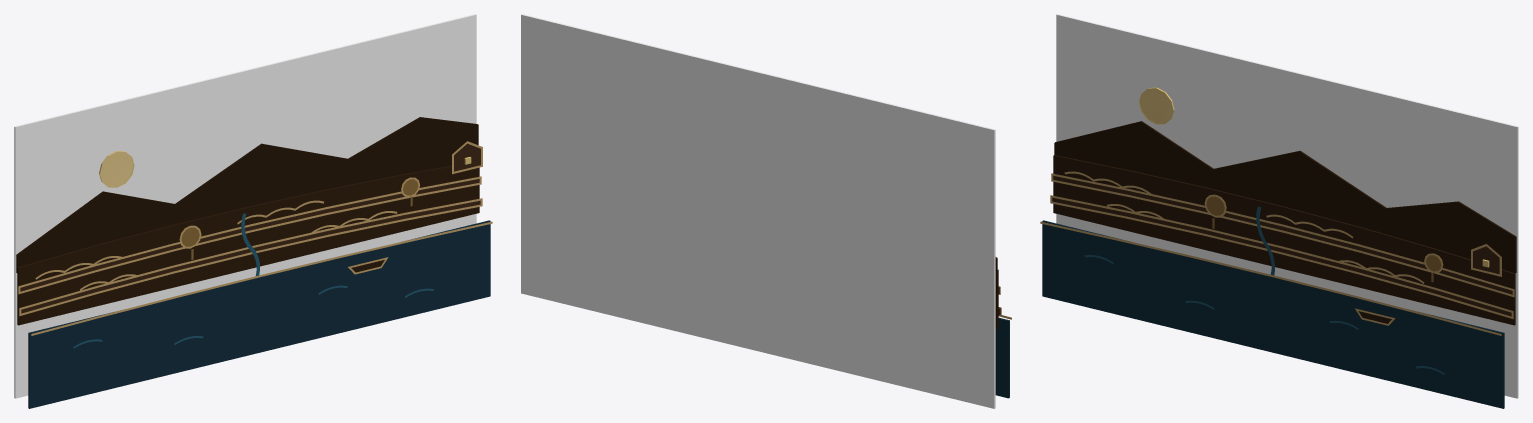
The model's file is loc-terrasy-sady.glb.
3 views of the same model, side by side, from view 1: azimuth 30°, elevation 25°; view 2: azimuth 150°, elevation 25°; view 3: azimuth 330°, elevation 25° (orthographic). The views are drawn at different scales.
Visible parts, largest first — view 1: loc-terrasy-sady; view 2: loc-terrasy-sady; view 3: loc-terrasy-sady.
Part boxes in pixels (x1,y1,x2,y2): loc-terrasy-sady: (14, 14, 492, 408); loc-terrasy-sady: (521, 14, 1011, 408); loc-terrasy-sady: (1040, 14, 1518, 408).
Size of the model in its own units: 5.36 by 3 by 0.361.
